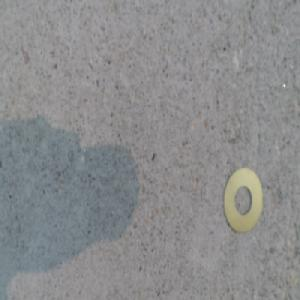Washer: (220, 167, 260, 235)
